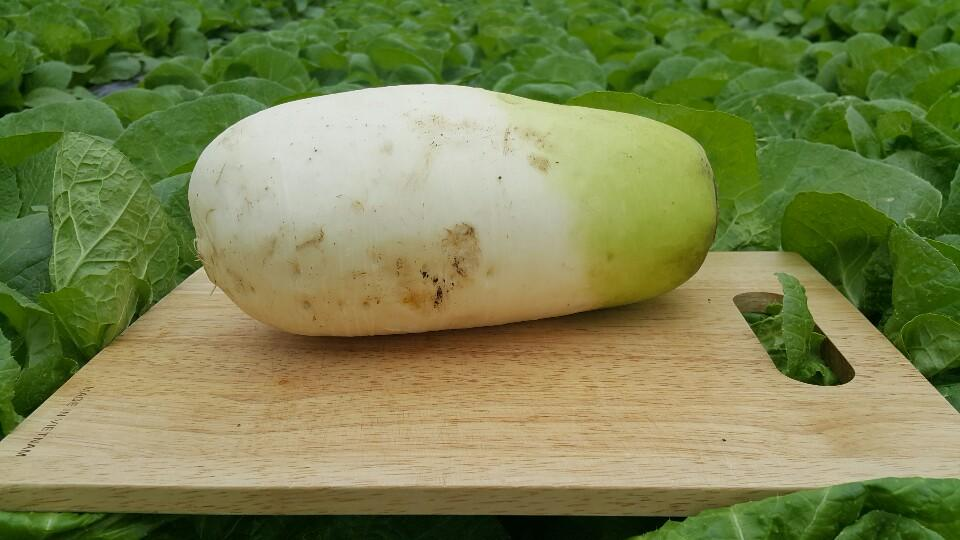radish: (311, 103, 960, 272)
